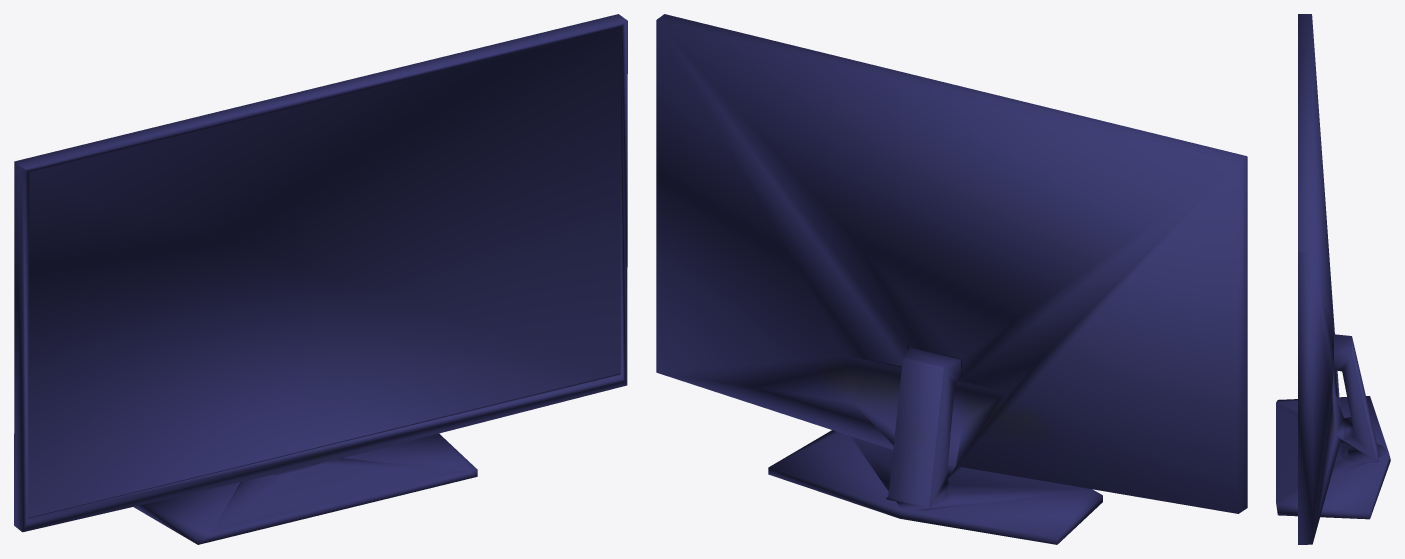
The model's file is model.progressive.glb.
3 views of the same model, side by side, from view 1: azimuth 30°, elevation 25°; view 2: azimuth 150°, elevation 25°; view 3: azimuth 270°, elevation 25° (orthographic). The views are drawn at different scales.
Parts seen in each view (by area): view 1: mesh_input; view 2: mesh_input; view 3: mesh_input.
Part boxes in pixels (bbox=[...]): mesh_input: bbox=[14, 14, 627, 544]; mesh_input: bbox=[656, 14, 1247, 544]; mesh_input: bbox=[1276, 14, 1390, 544].
Size of the model in its own units: 1.89 by 1.22 by 0.3868.
Materials: 1 (1 with a texture image).
